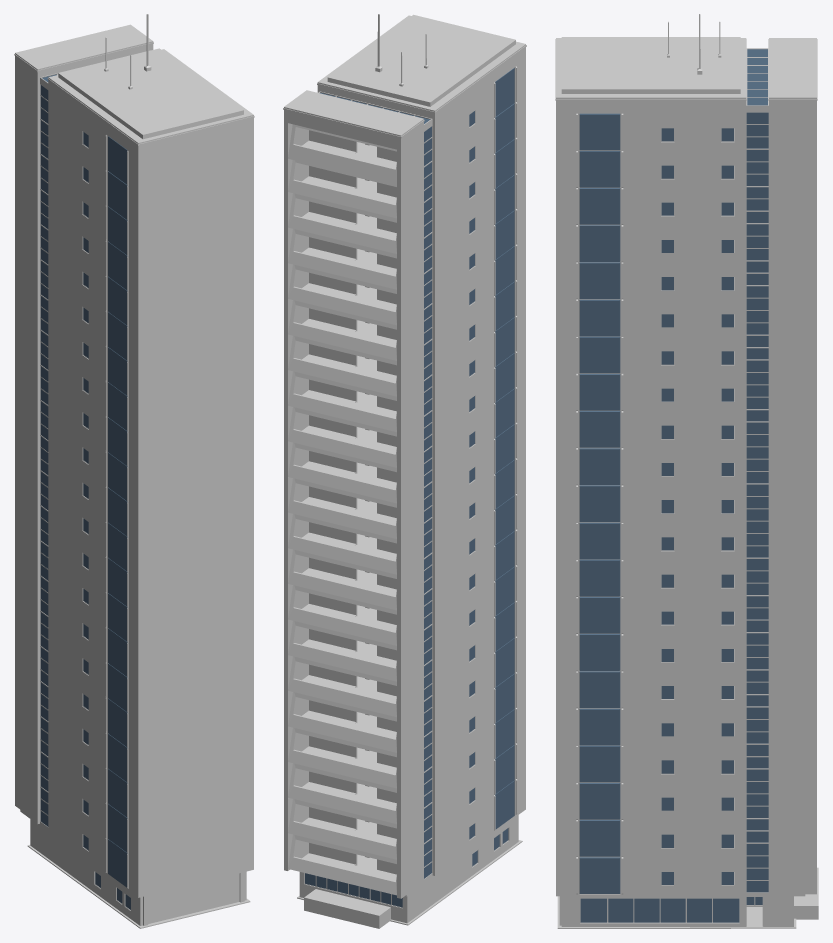
File: res_09.glb
3 renders of one model, left to right at view 1: azimuth 30°, elevation 25°; view 2: azimuth 150°, elevation 25°; view 3: azimuth 270°, elevation 25°, orthographic. The views are drawn at different scales.
Parts seen in each view (by area): view 1: Residential Buildings 009; view 2: Residential Buildings 009; view 3: Residential Buildings 009.
Boxes of the visible parts, bbox=[...] form: Residential Buildings 009: bbox=[14, 14, 254, 928]; Residential Buildings 009: bbox=[283, 14, 526, 928]; Residential Buildings 009: bbox=[555, 14, 818, 928].
Size of the model in its own units: 12.6 by 86.79 by 23.1.
